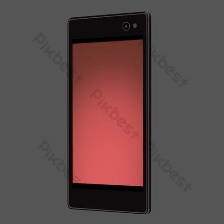phone: (64, 9, 154, 216)
